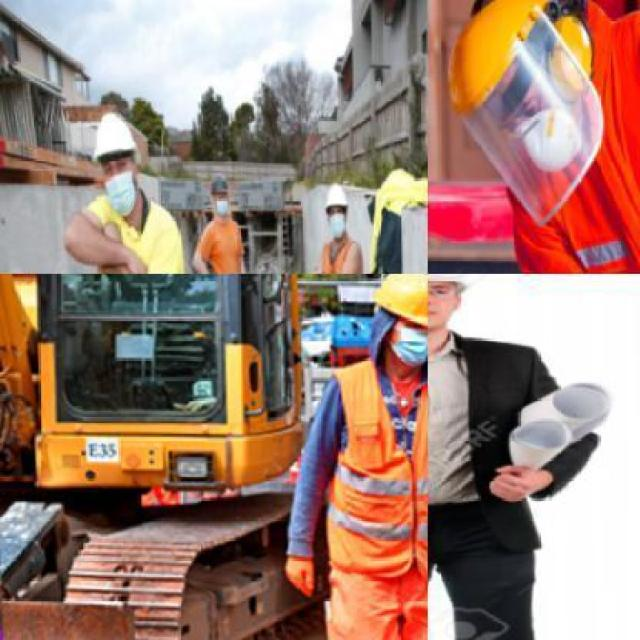Vest: (473, 0, 638, 272), (329, 363, 426, 589)
